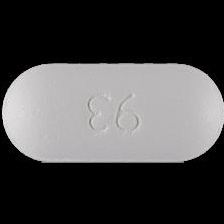0093-8119: (0, 0, 224, 224)
